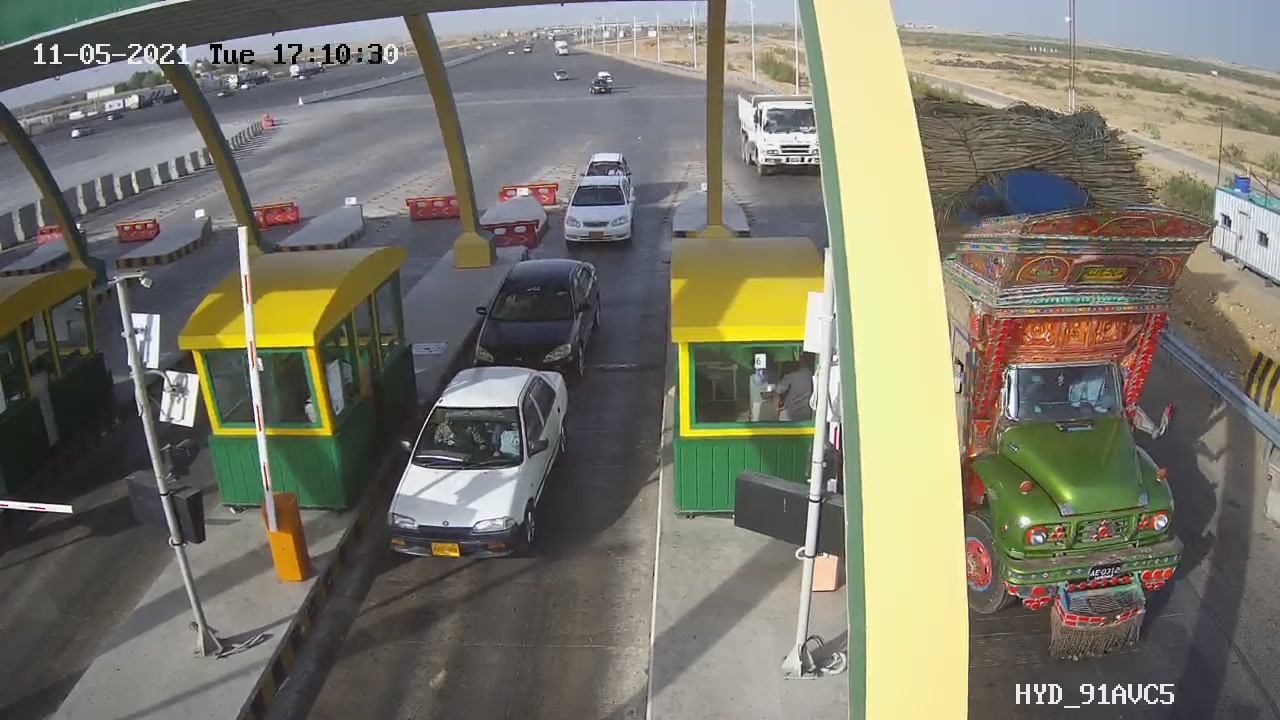F1: (370, 352, 590, 581), (459, 253, 622, 405), (542, 165, 660, 262)
